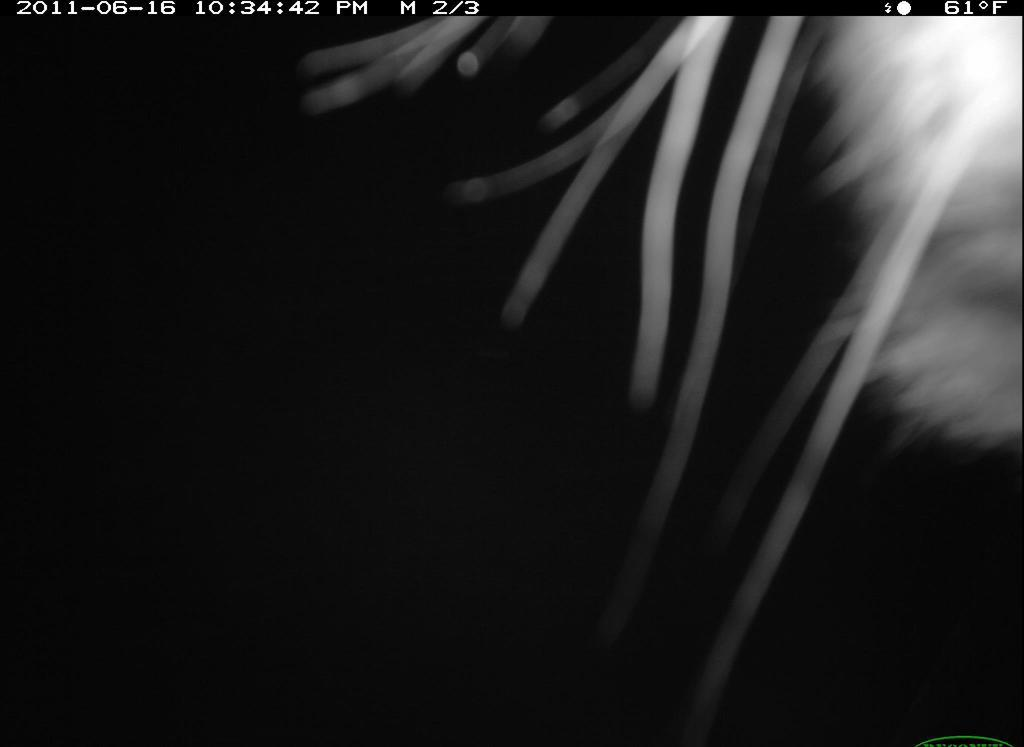raccoon: (277, 6, 1022, 747)
